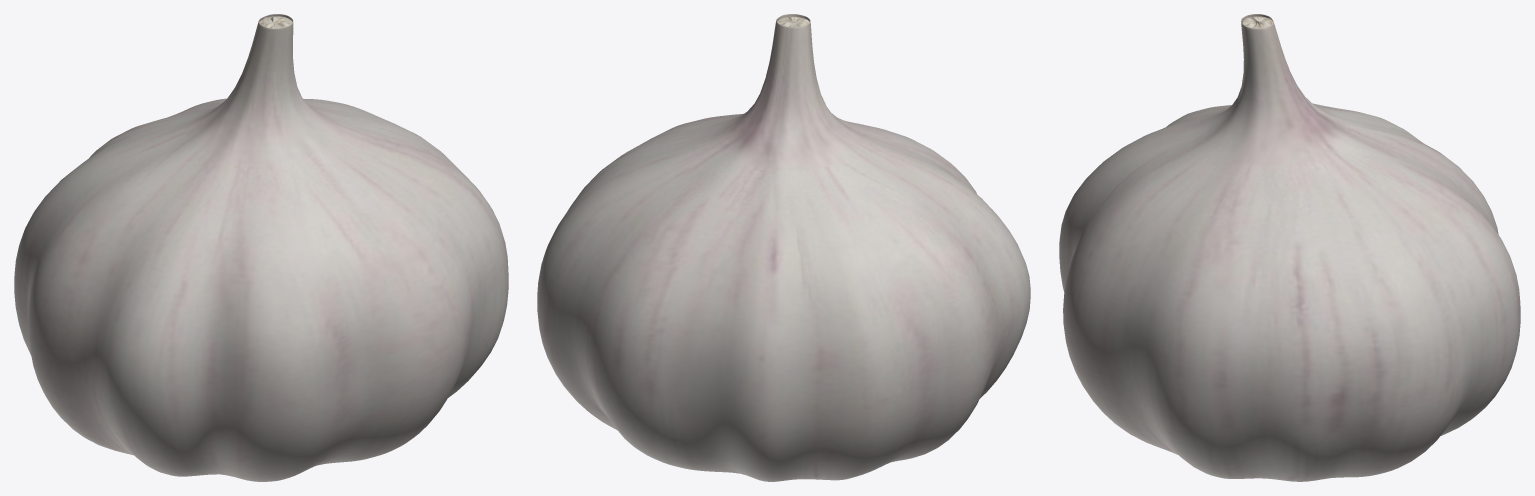
Rendered from SM_Garlic.fbx.
The picture shows the model from 3 angles, left to right: view 1: azimuth 30°, elevation 25°; view 2: azimuth 150°, elevation 25°; view 3: azimuth 270°, elevation 25°; orthographic projection. The views are drawn at different scales.
Parts seen in each view (by area): view 1: GarlicPeel; view 2: GarlicPeel; view 3: GarlicPeel.
Boxes of the visible parts, x1=… form: GarlicPeel: x1=14, y1=14, x2=508, y2=481; GarlicPeel: x1=537, y1=14, x2=1030, y2=481; GarlicPeel: x1=1059, y1=14, x2=1520, y2=481.
Size of what is drawn, in the model's own units: 7.28 by 6.89 by 6.82.
